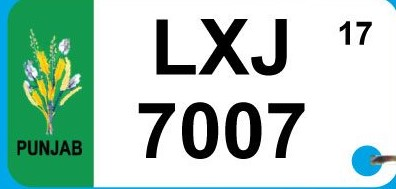0: (180, 100, 221, 160), (223, 100, 264, 160)
1: (338, 18, 354, 46)
7: (136, 100, 177, 160), (266, 100, 307, 160), (355, 19, 373, 46)
J: (251, 16, 293, 78)
L: (151, 16, 199, 77)
X: (199, 16, 250, 77)
